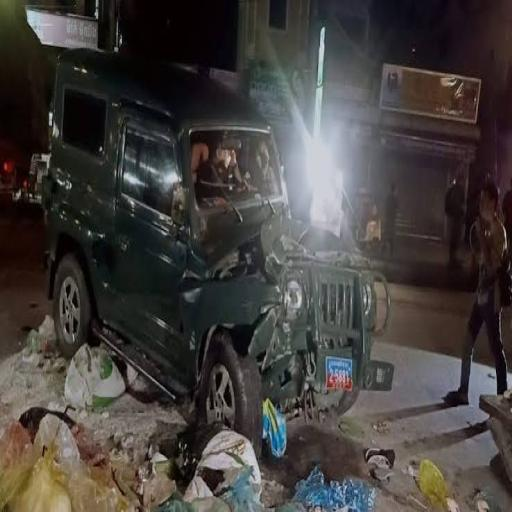Plate Number: (323, 354, 355, 390)
